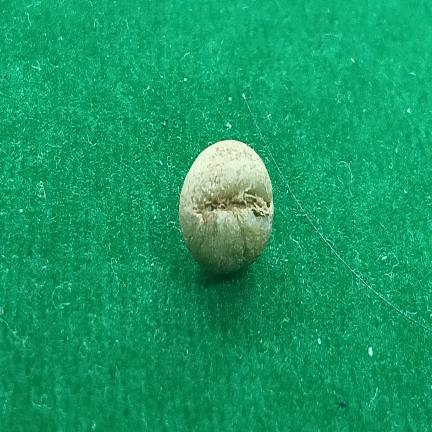good: (179, 140, 274, 274)
